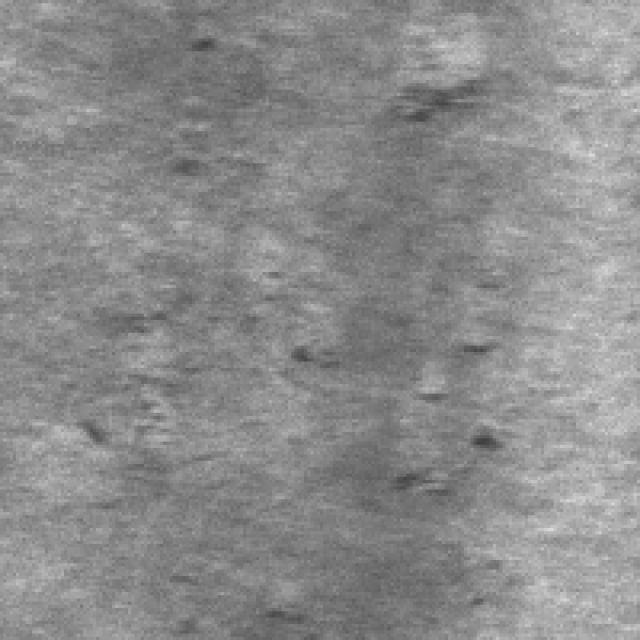rolled-in_scale: (102, 243, 365, 490), (384, 246, 554, 512), (371, 42, 499, 115)
